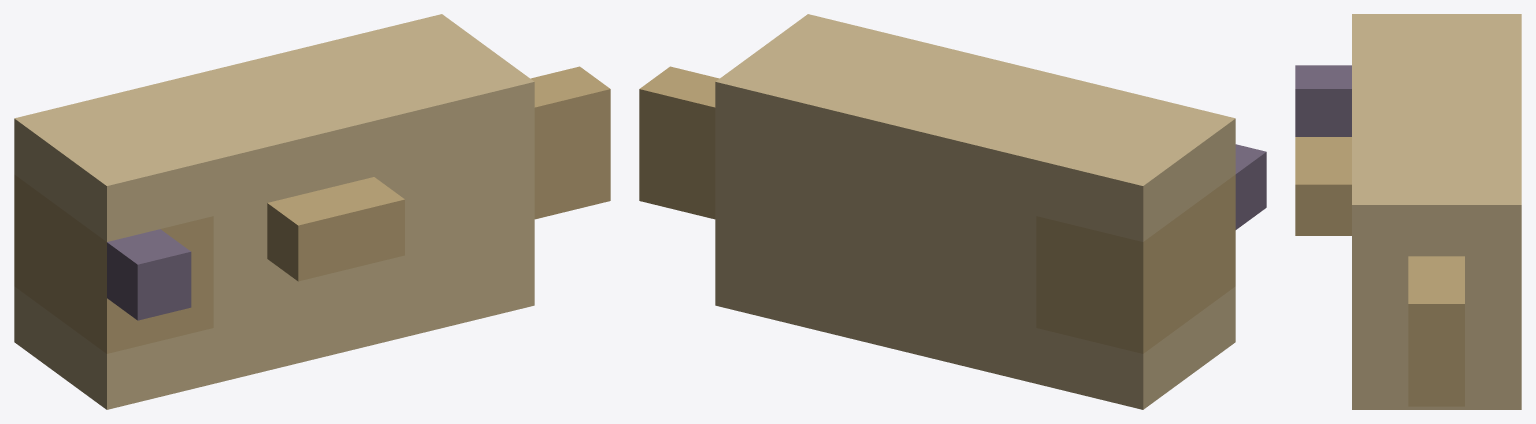
Rendered from item_bungeoppang.glb.
3 views of the same model, side by side, from view 1: azimuth 30°, elevation 25°; view 2: azimuth 150°, elevation 25°; view 3: azimuth 270°, elevation 25° (orthographic). The views are drawn at different scales.
Visible parts, largest first — view 1: item_bungeoppang; view 2: item_bungeoppang; view 3: item_bungeoppang.
Boxes of the visible parts, left/top/right/bottom form: item_bungeoppang: left=14, top=14, right=610, bottom=409; item_bungeoppang: left=639, top=14, right=1266, bottom=409; item_bungeoppang: left=1295, top=14, right=1521, bottom=409.
Bounding box in the file's own units: 1 × 0.4 × 0.4.
